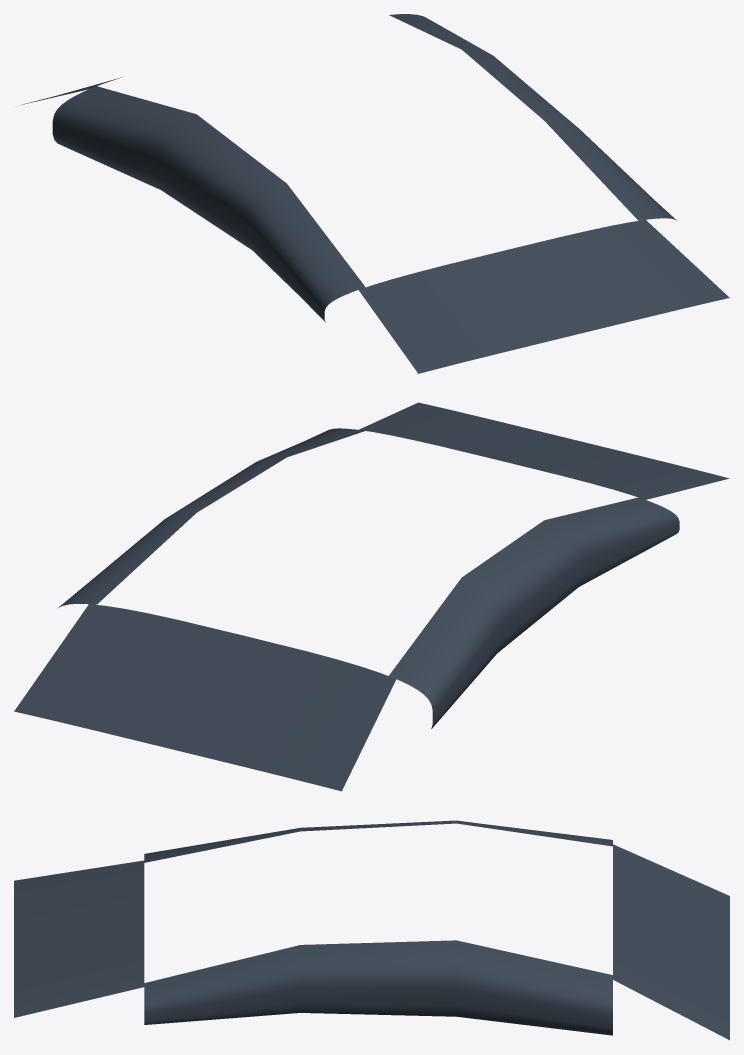
File: sports_glass.glb
The picture shows the model from 3 angles, top to bottom: view 1: azimuth 30°, elevation 25°; view 2: azimuth 150°, elevation 25°; view 3: azimuth 270°, elevation 25°; orthographic projection. The views are drawn at different scales.
Size of the model in its own units: 1.52 by 0.3657 by 2.75.
